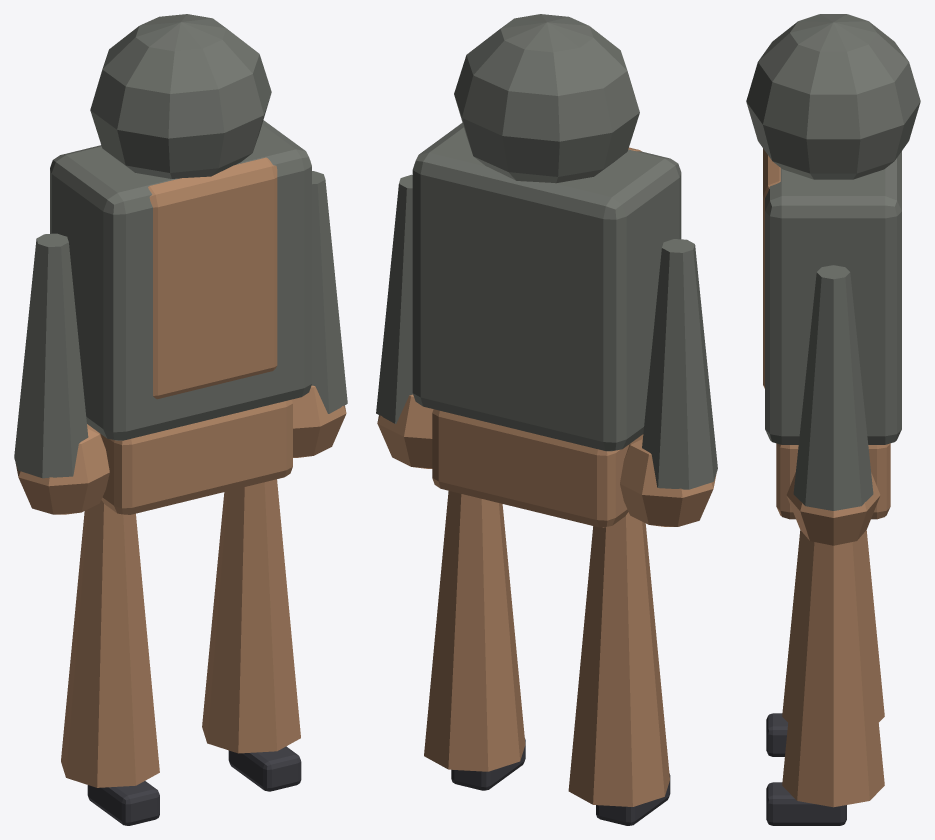
The model's file is mutant_brute.glb.
3 views of the same model, side by side, from view 1: azimuth 30°, elevation 25°; view 2: azimuth 150°, elevation 25°; view 3: azimuth 270°, elevation 25° (orthographic). The views are drawn at different scales.
Visible parts, largest first — view 1: mut_brute_torso, mut_brute_plate, mut_brute_head, mut_brute_leg_l, mut_brute_leg_r, mut_brute_pelvis, mut_brute_arm_l, mut_brute_arm_r, mut_brute_fist_l, mut_brute_fist_r, mut_brute_foot_r, mut_brute_foot_l; view 2: mut_brute_torso, mut_brute_head, mut_brute_leg_l, mut_brute_leg_r, mut_brute_pelvis, mut_brute_arm_l, mut_brute_arm_r, mut_brute_fist_l, mut_brute_fist_r, mut_brute_foot_l, mut_brute_foot_r; view 3: mut_brute_torso, mut_brute_head, mut_brute_leg_r, mut_brute_arm_r, mut_brute_fist_r, mut_brute_leg_l, mut_brute_pelvis, mut_brute_foot_r, mut_brute_plate, mut_brute_foot_l.
Part boxes in pixels (x1,y1,x2,y2): mut_brute_torso: (50,120,311,440); mut_brute_plate: (148,157,277,399); mut_brute_head: (90,14,271,178); mut_brute_leg_l: (61,500,159,787); mut_brute_leg_r: (202,479,300,753); mut_brute_pelvis: (100,399,292,514); mut_brute_arm_l: (14,233,88,478); mut_brute_arm_r: (311,171,347,413); mut_brute_fist_l: (15,424,109,514); mut_brute_fist_r: (292,385,346,457); mut_brute_foot_r: (228,746,301,791); mut_brute_foot_l: (87,781,159,825); mut_brute_torso: (412,123,681,451); mut_brute_head: (454,14,639,183); mut_brute_leg_l: (568,512,669,806); mut_brute_leg_r: (424,491,525,771); mut_brute_pelvis: (432,409,629,527); mut_brute_arm_l: (642,239,717,489); mut_brute_arm_r: (376,174,412,423); mut_brute_fist_l: (620,434,716,526); mut_brute_fist_r: (377,394,433,468); mut_brute_foot_l: (596,773,670,825); mut_brute_foot_r: (451,739,525,790); mut_brute_torso: (765,151,901,444); mut_brute_head: (746,14,920,179); mut_brute_leg_r: (782,537,884,807); mut_brute_arm_r: (793,265,873,510); mut_brute_fist_r: (786,472,880,545); mut_brute_leg_l: (782,530,884,722); mut_brute_pelvis: (776,443,890,519); mut_brute_foot_r: (766,782,846,825); mut_brute_plate: (763,148,780,388); mut_brute_foot_l: (766,713,787,756).
Size of the model in its own units: 1.12 by 2.51 by 0.52.
